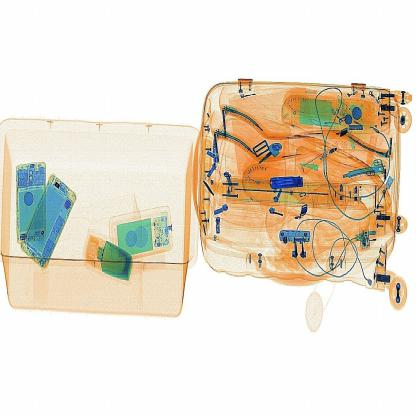knife: (265, 169, 311, 195)
